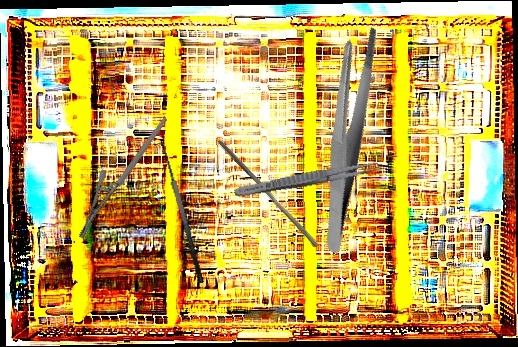Dressing Forceps: (268, 19, 426, 256), (233, 157, 380, 201)
Needle Holder: (50, 116, 197, 241)
Pusher: (213, 138, 323, 249)
Spatula Surgical: (151, 140, 205, 287)
